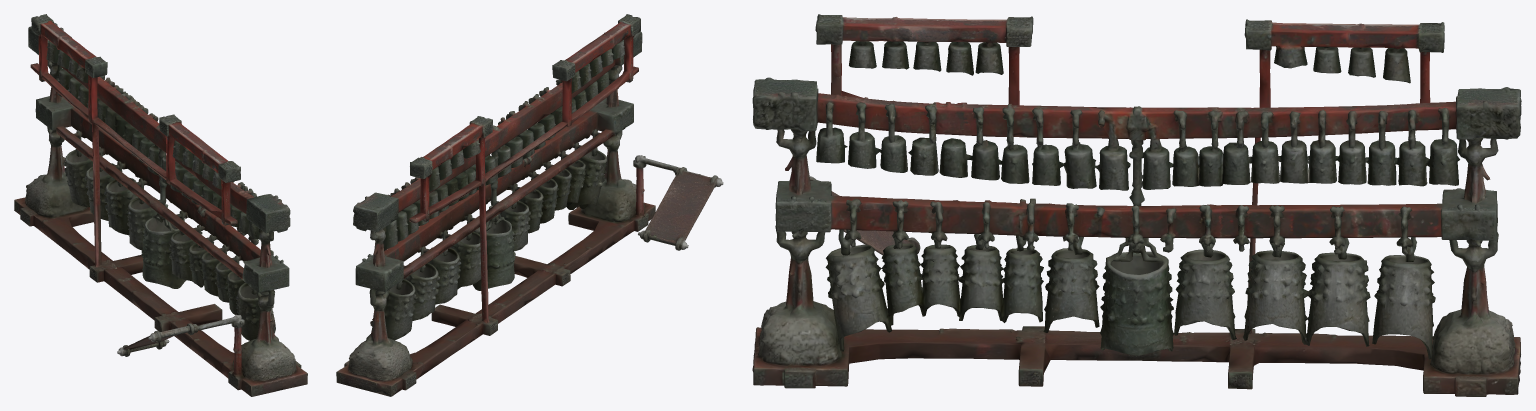
The picture shows the model from 3 angles, left to right: view 1: azimuth 30°, elevation 25°; view 2: azimuth 150°, elevation 25°; view 3: azimuth 270°, elevation 25°; orthographic projection. The views are drawn at different scales.
Visible parts, largest first — view 1: tripo_node_5b6770a0-80ab-4cfd-8d2c-bbd615353c78; view 2: tripo_node_5b6770a0-80ab-4cfd-8d2c-bbd615353c78; view 3: tripo_node_5b6770a0-80ab-4cfd-8d2c-bbd615353c78.
Part boxes in pixels (x1,y1,x2,y2): tripo_node_5b6770a0-80ab-4cfd-8d2c-bbd615353c78: [14, 14, 307, 396]; tripo_node_5b6770a0-80ab-4cfd-8d2c-bbd615353c78: [336, 14, 723, 396]; tripo_node_5b6770a0-80ab-4cfd-8d2c-bbd615353c78: [752, 14, 1521, 396].
Bounding box in the file's own units: 0.3586 × 0.4695 × 0.9999.
Materials: 1 (1 with a texture image).
